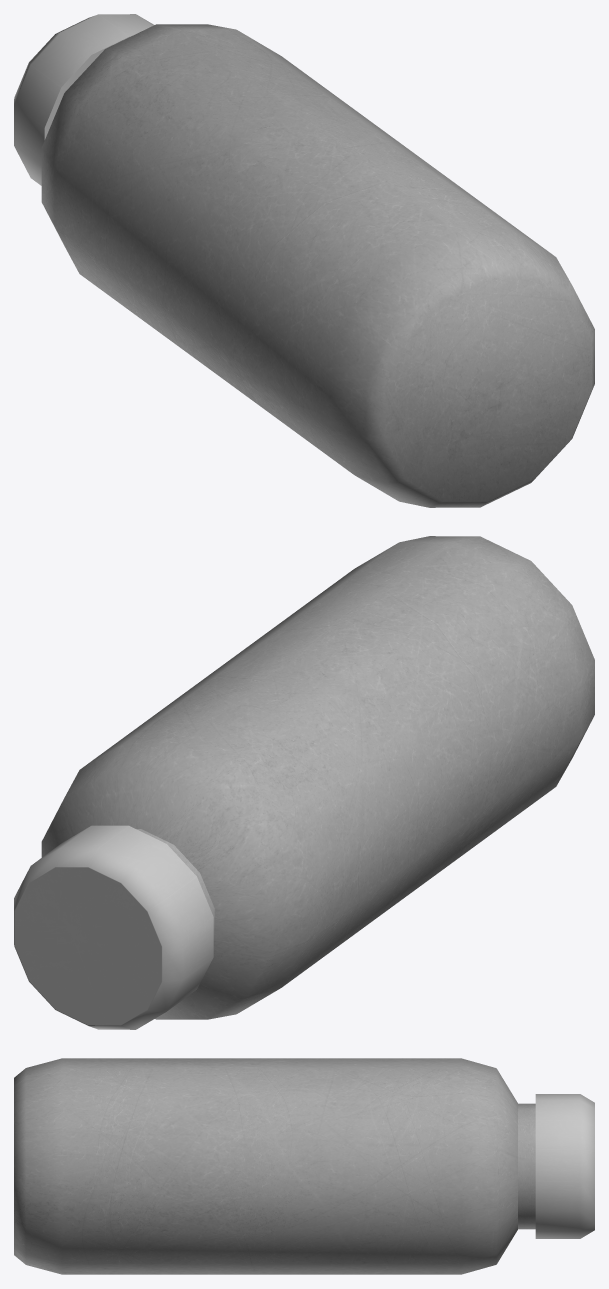
Rendered from Fixed_Item_Bottle Med_Ver1.fbx.
The picture shows the model from 3 angles, top to bottom: view 1: azimuth 30°, elevation 25°; view 2: azimuth 150°, elevation 25°; view 3: azimuth 270°, elevation 25°; orthographic projection. The views are drawn at different scales.
Visible parts, largest first — view 1: Pill Bottle med_body, Pill Bottle med_cap; view 2: Pill Bottle med_body, Pill Bottle med_cap; view 3: Pill Bottle med_body, Pill Bottle med_cap.
Boxes of the visible parts, box(x1,y1,x2,y2) form: Pill Bottle med_body: box(41, 24, 594, 507); Pill Bottle med_cap: box(14, 14, 154, 185); Pill Bottle med_body: box(41, 536, 594, 1019); Pill Bottle med_cap: box(14, 825, 213, 1029); Pill Bottle med_body: box(14, 1058, 535, 1274); Pill Bottle med_cap: box(535, 1094, 594, 1238).
Bounding box in the file's own units: 82.12 × 84.23 × 226.
Materials: 1 (1 with a texture image).
